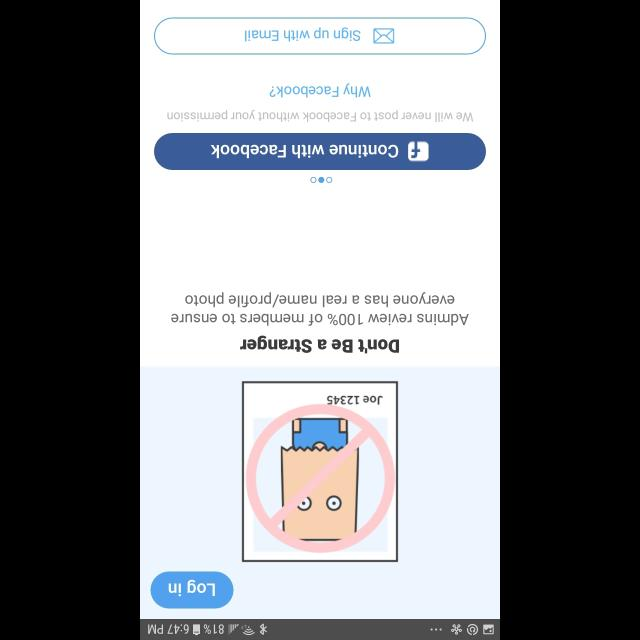image: (242, 381, 398, 563)
pageindicator: (310, 176, 332, 184)
text: (171, 292, 469, 326), (167, 110, 473, 122), (240, 334, 398, 354), (270, 82, 370, 98)
textbutton: (154, 133, 486, 171), (154, 18, 486, 54), (150, 570, 234, 608)
uppertaskbar: (140, 618, 500, 640)
